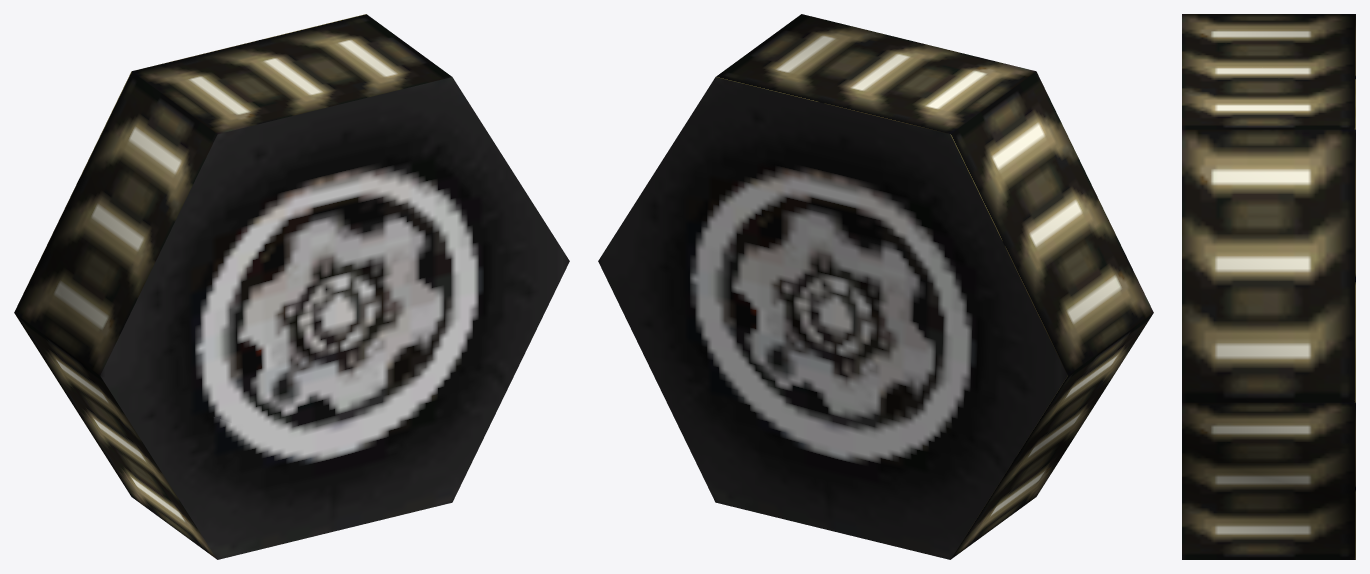
The model's file is GLA - Ground Vehicles - Technical - Damage State 3 - UVTechTrck_d3.glb.
3 renders of one model, left to right at view 1: azimuth 30°, elevation 25°; view 2: azimuth 150°, elevation 25°; view 3: azimuth 270°, elevation 25°, orthographic.
Parts seen in each view (by area): view 1: UVTECHTRCK_D3; view 2: UVTECHTRCK_D3; view 3: UVTECHTRCK_D3.
Part boxes in pixels (x1=…): UVTECHTRCK_D3: x1=14, y1=14, x2=569, y2=559; UVTECHTRCK_D3: x1=598, y1=14, x2=1153, y2=559; UVTECHTRCK_D3: x1=1182, y1=14, x2=1355, y2=559.
Bounding box in the file's own units: 4.44 × 3.84 × 1.41.
Materials: 1 (1 with a texture image).
